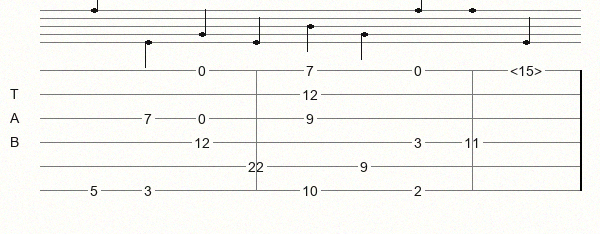0: (198, 111, 210, 125), (198, 63, 210, 77), (414, 63, 426, 77)
10: (302, 183, 322, 197)
11: (464, 135, 484, 149)
12: (194, 135, 214, 149), (302, 87, 322, 101)
2: (414, 183, 426, 197)
22: (248, 159, 268, 173)
3: (144, 183, 156, 197), (414, 135, 426, 149)
5: (90, 183, 102, 197)
7: (144, 111, 156, 125), (306, 63, 318, 77)
9: (306, 111, 318, 125), (360, 159, 372, 173)
harmonic: (510, 63, 546, 77)
